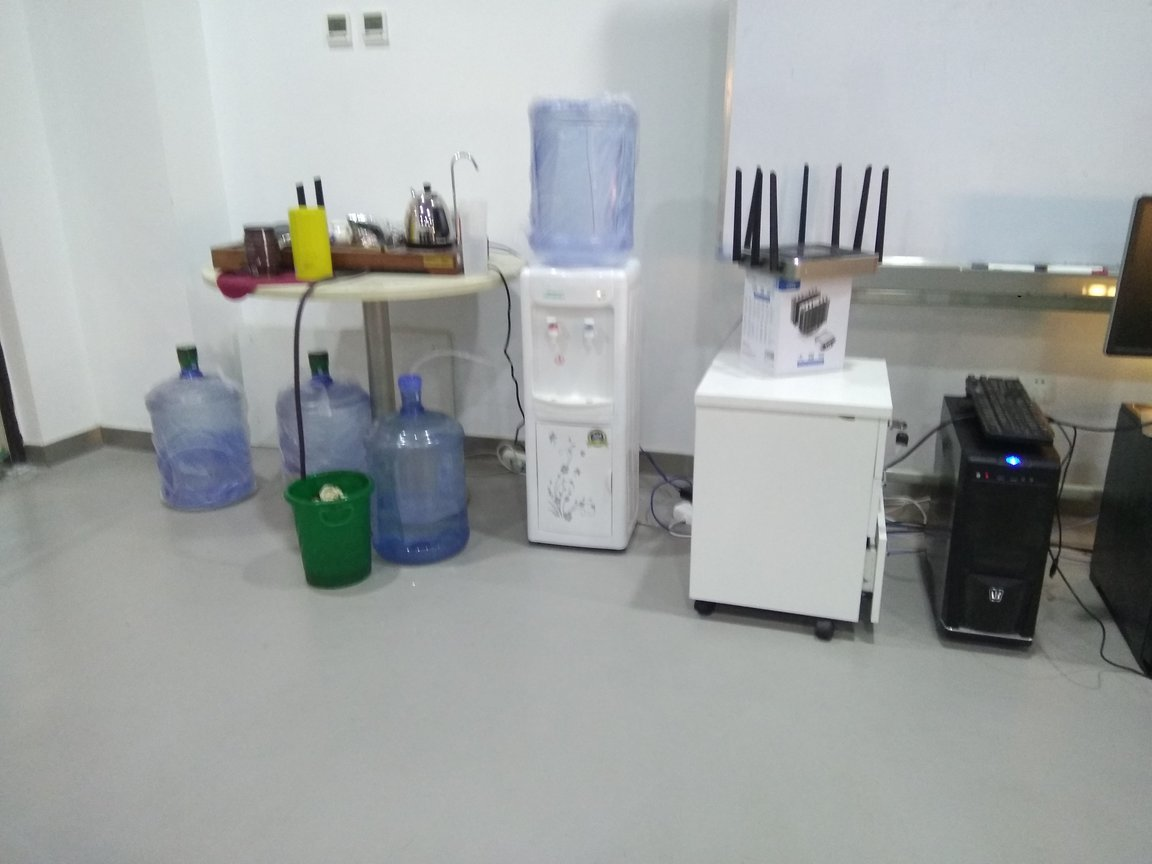computer: (928, 397, 1042, 659)
drawer chest: (683, 345, 901, 644)
scuttlebutt: (367, 371, 479, 569), (521, 96, 641, 267), (145, 341, 261, 515), (280, 353, 374, 533)
water dispenser: (515, 257, 647, 549)
